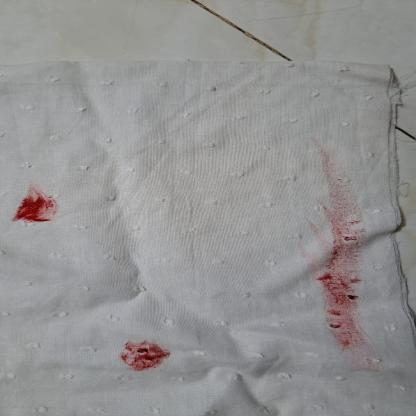spot: (305, 131, 375, 358), (13, 179, 66, 226), (118, 338, 180, 372)
